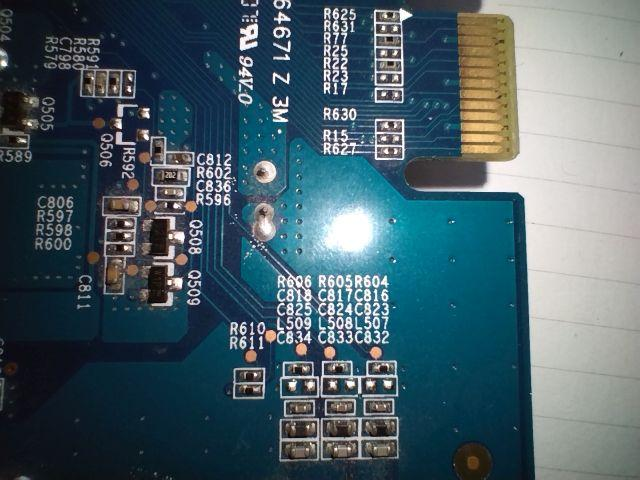capacitor: (280, 439, 320, 471), (362, 438, 400, 468), (100, 192, 146, 216)
resistor: (74, 62, 101, 102), (368, 116, 408, 138), (105, 68, 127, 104), (100, 228, 138, 245)
